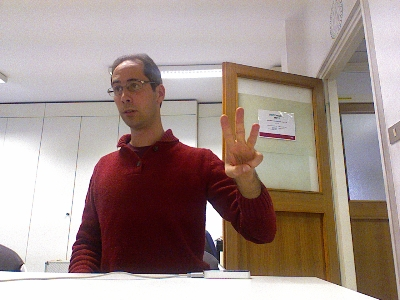三分: (218, 105, 264, 180)
